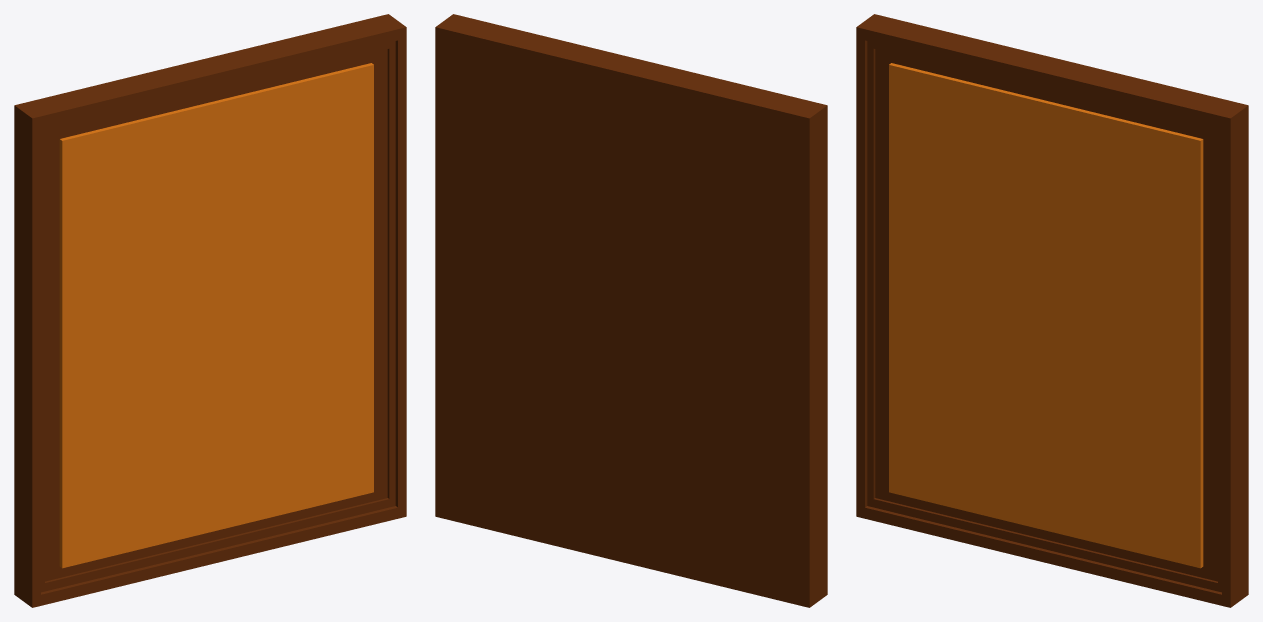
File: Picture_frame1.fbx
3 views of the same model, side by side, from view 1: azimuth 30°, elevation 25°; view 2: azimuth 150°, elevation 25°; view 3: azimuth 330°, elevation 25° (orthographic).
Visible parts, largest first — view 1: Cube.001, Cube; view 2: Cube; view 3: Cube.001, Cube.
Boxes of the visible parts, x1,y1,x2,y2 form: Cube.001: [59, 63, 373, 568]; Cube: [14, 14, 406, 607]; Cube: [435, 14, 827, 607]; Cube.001: [889, 63, 1203, 568]; Cube: [856, 14, 1248, 607].
Size of the model in its own units: 60 by 75 by 5.
